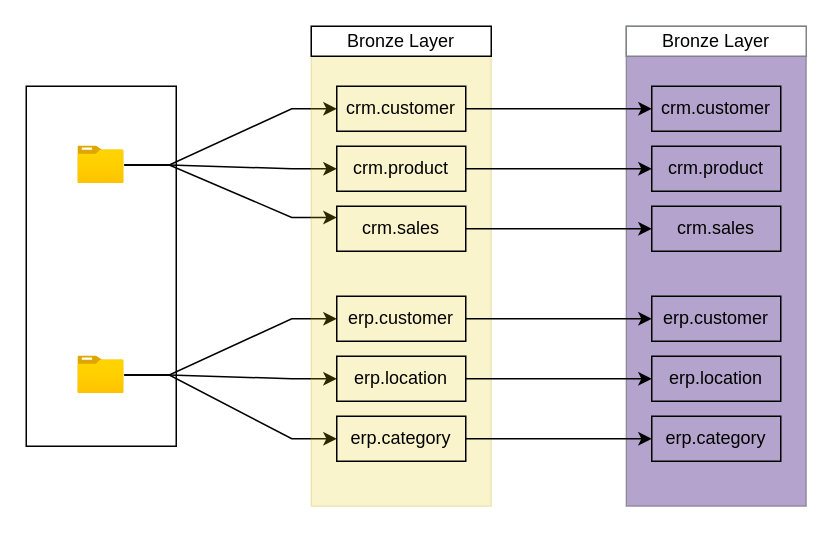
The diagram is 833 pixels wide and 533 high, and some of its shapes have lost their labels. Here are the shapes that lost their labels. From the top down, the centre of each, then its label:
point 100,164: CRM
point 100,374: ERP
